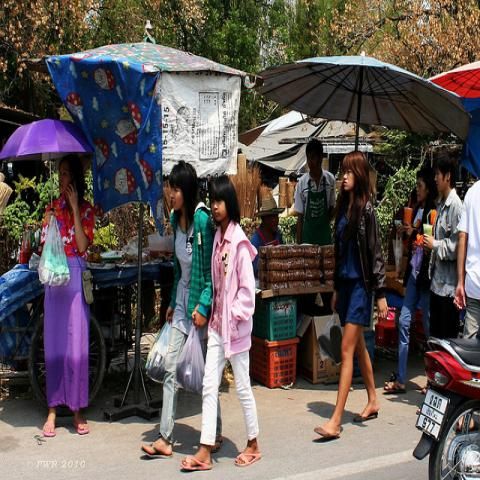motorcycle: (414, 335, 479, 477)
